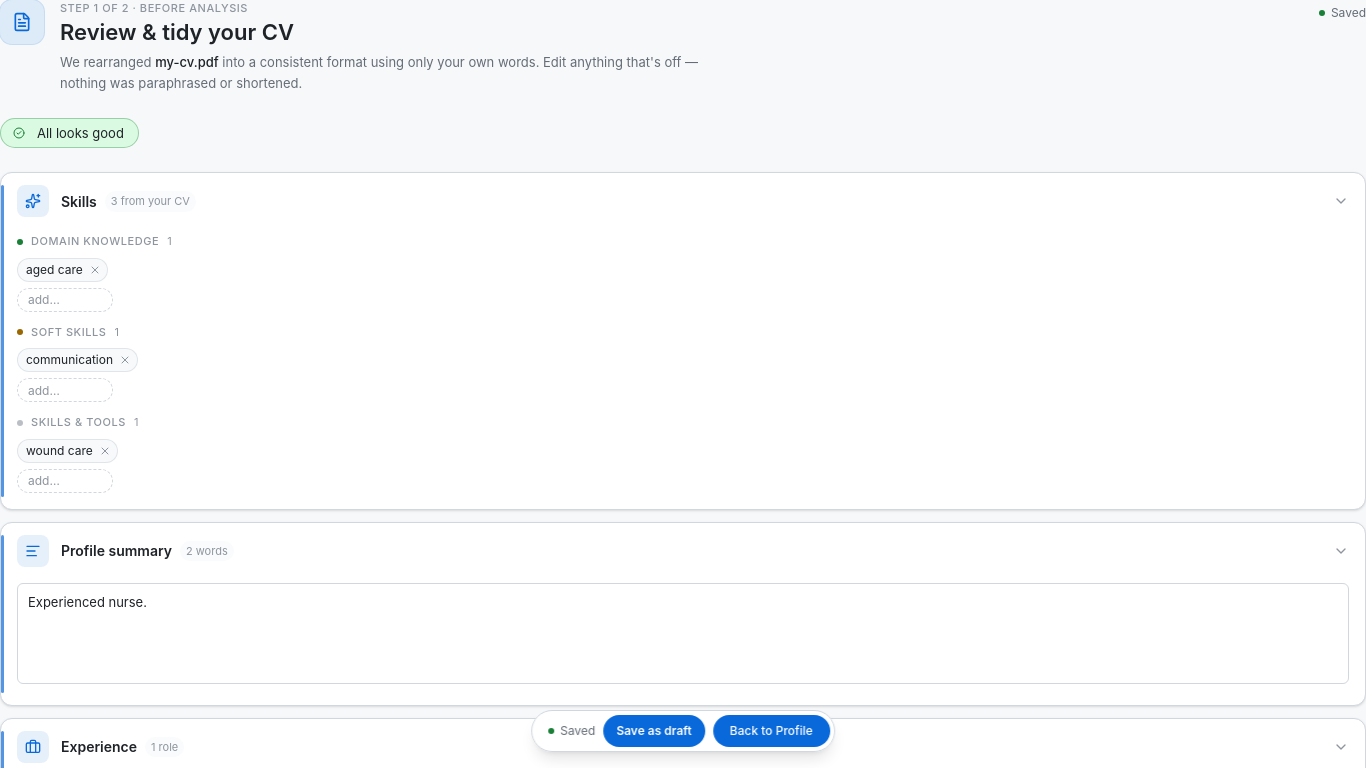
Test case: Skills section › adding a skill via Enter reaches addSkill and renders the new chip
Type "IV therapy" into the field named "Add Skills & tools" at x=65, y=481, box [17,469,113,493]
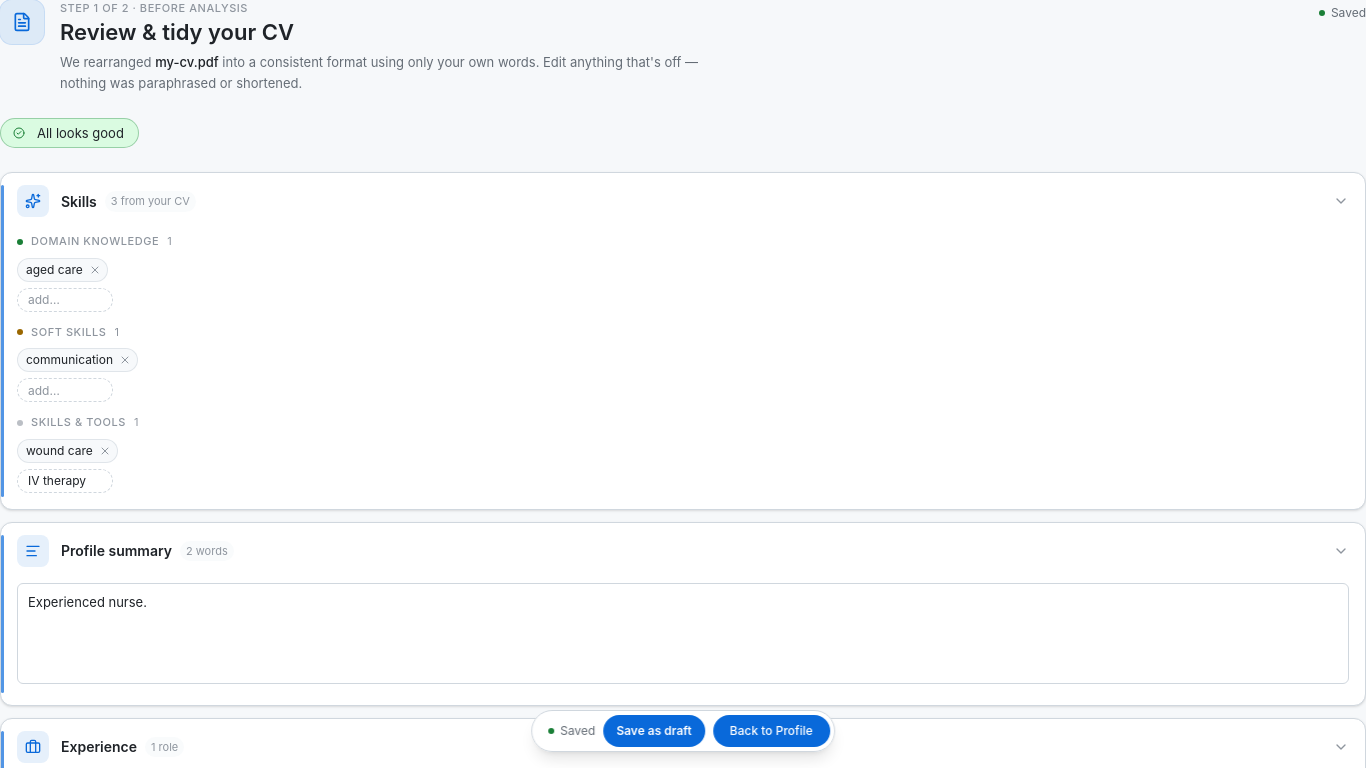
Press Enter in the field named "Add Skills & tools", box [17,469,113,493]
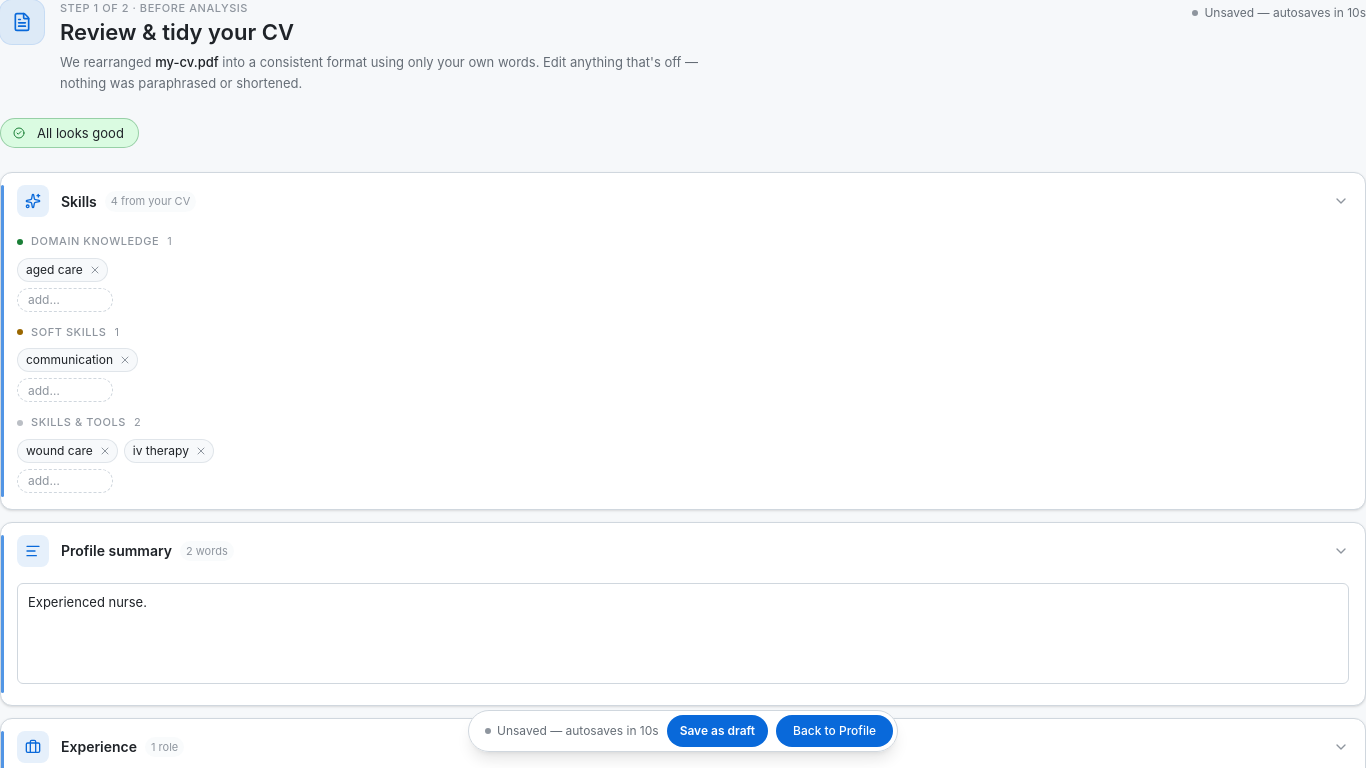
expect the text "iv therapy" is shown: met, box [133,442,189,460]
